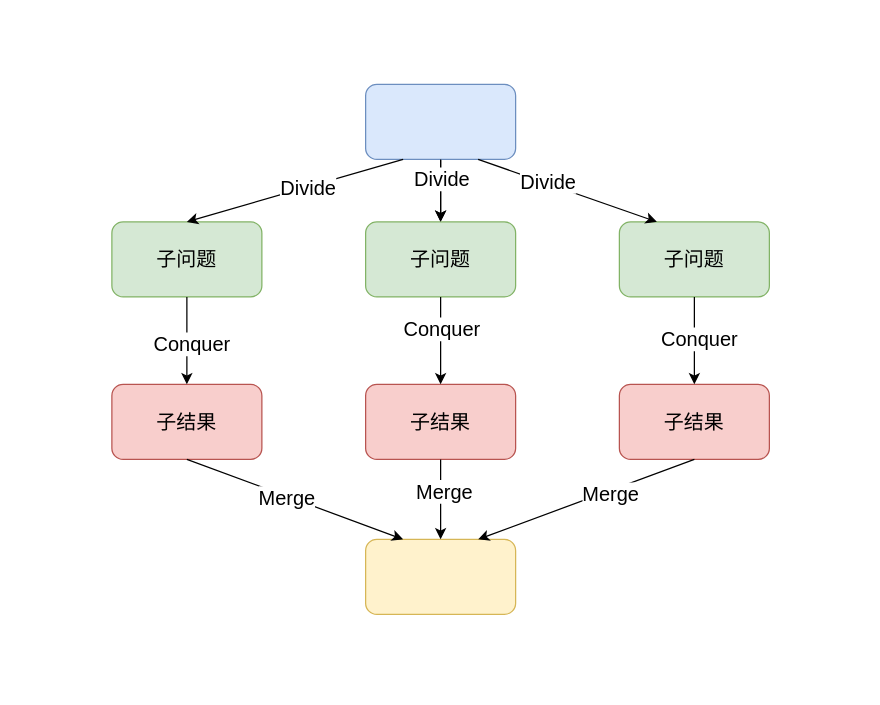
This 880x705 diagram has some shape labels left out. The centre of each missing label's shape, as x and y in pixels:
"原始问题" goes at point 440,121.
"结果" goes at point 440,576.
